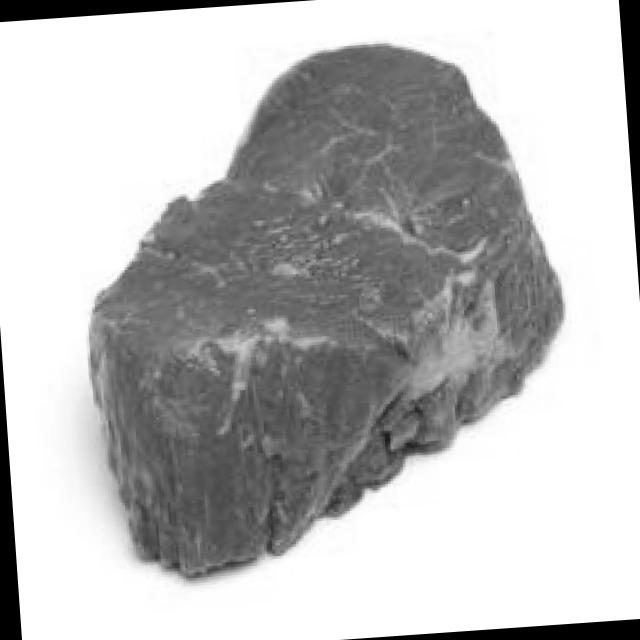than bit tet: (69, 21, 568, 578)
